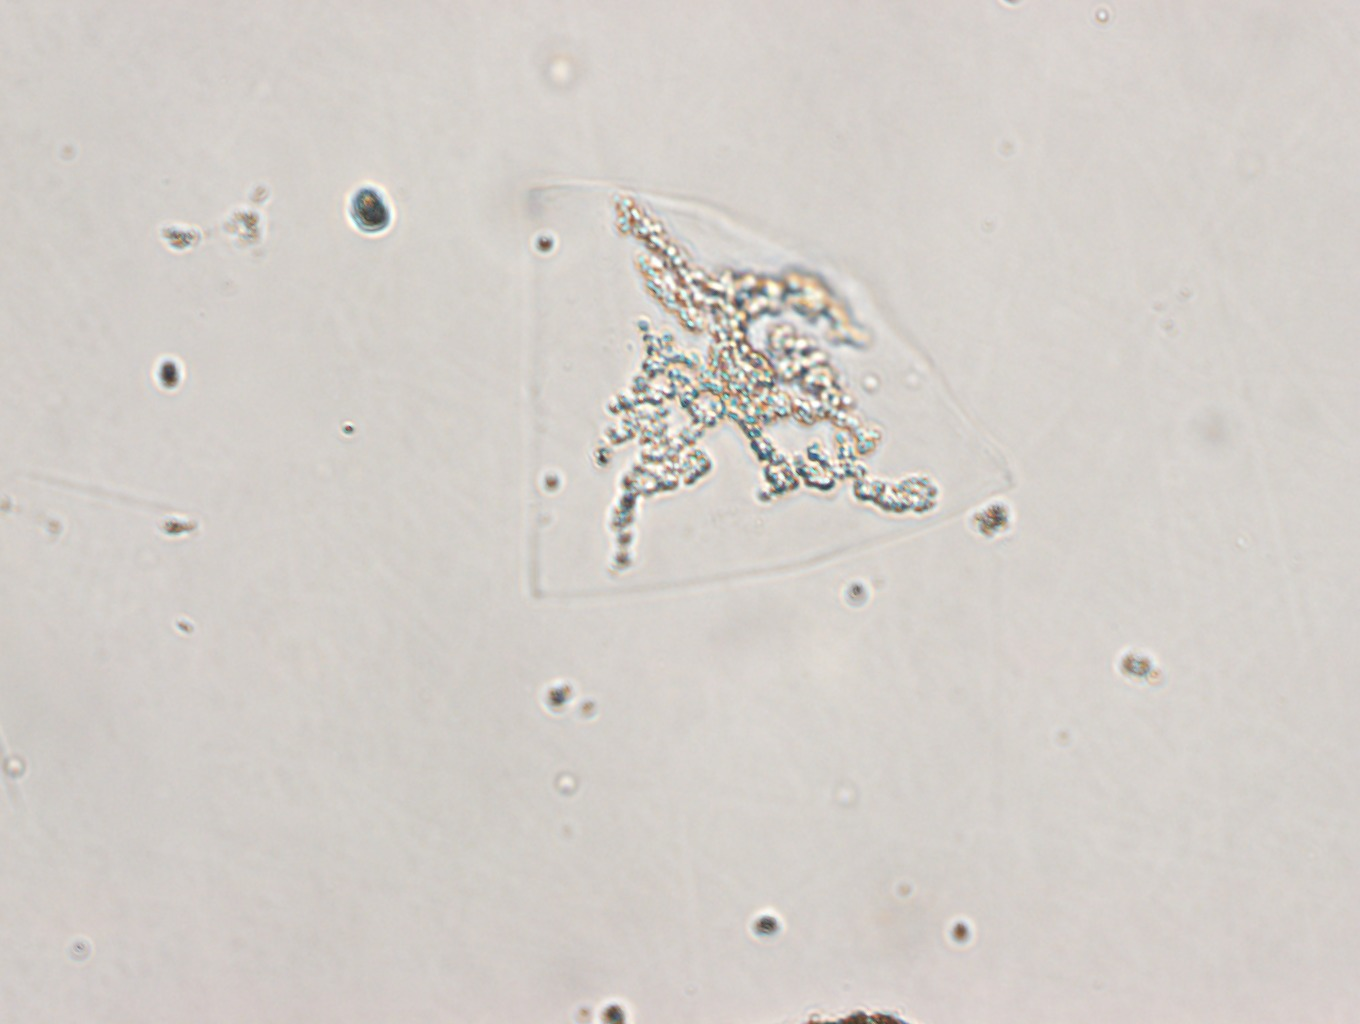helicotheca: (517, 177, 1021, 600)
